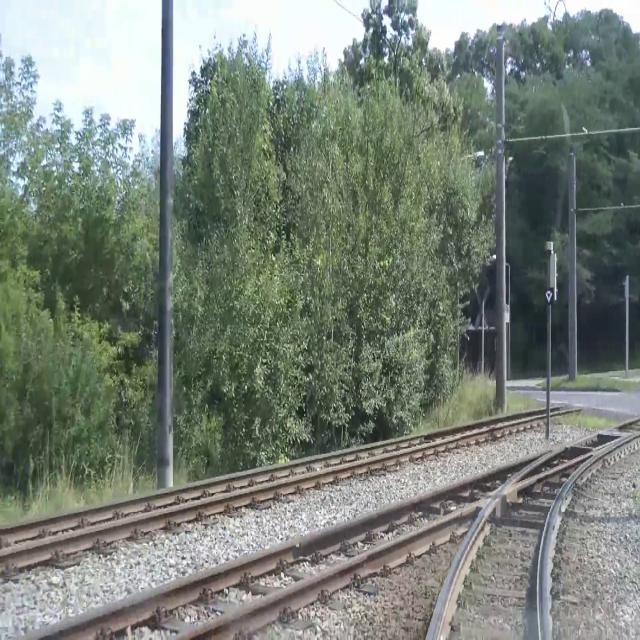rail-track: (44, 463, 525, 639), (0, 430, 461, 547), (436, 463, 579, 639), (527, 423, 640, 474)
